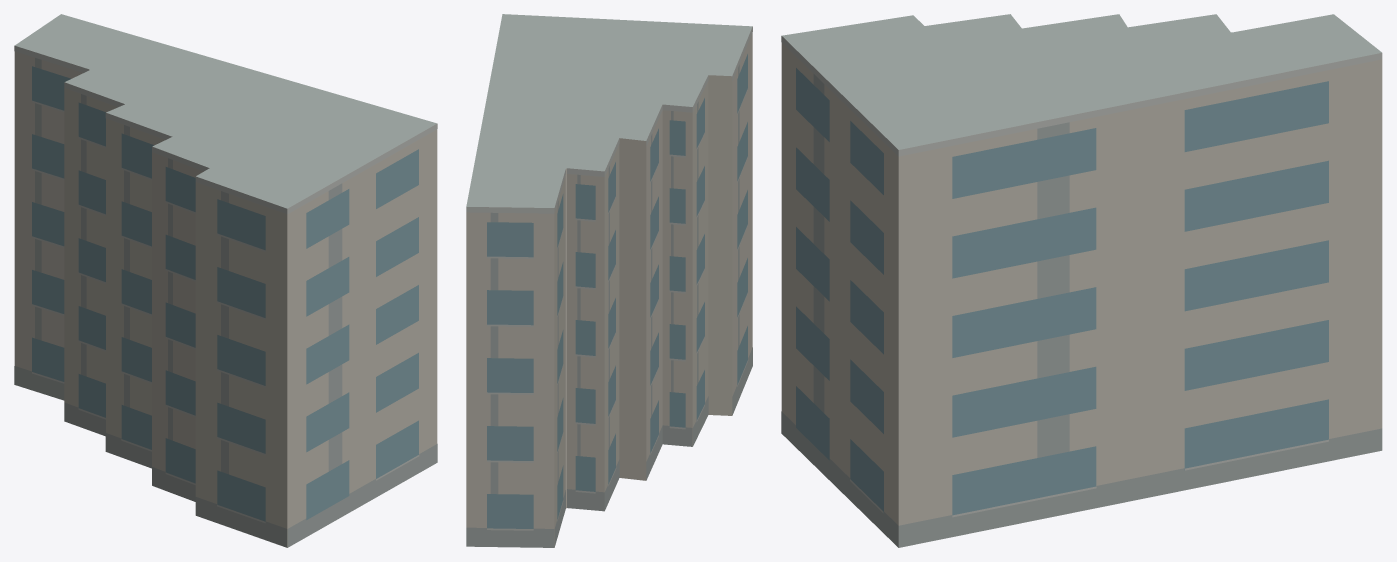
The model's file is survey-upis-32576805.glb.
3 renders of one model, left to right at view 1: azimuth 30°, elevation 25°; view 2: azimuth 150°, elevation 25°; view 3: azimuth 270°, elevation 25°, orthographic. The views are drawn at different scales.
Parts seen in each view (by area): view 1: survey-upis-32576805.tmp; view 2: survey-upis-32576805.tmp; view 3: survey-upis-32576805.tmp.
Boxes of the visible parts, left/top/right/bottom form: survey-upis-32576805.tmp: left=14, top=14, right=437, bottom=547; survey-upis-32576805.tmp: left=466, top=14, right=752, bottom=547; survey-upis-32576805.tmp: left=781, top=14, right=1382, bottom=547.
Size of the model in its own units: 10.79 by 14.7 by 20.13.
